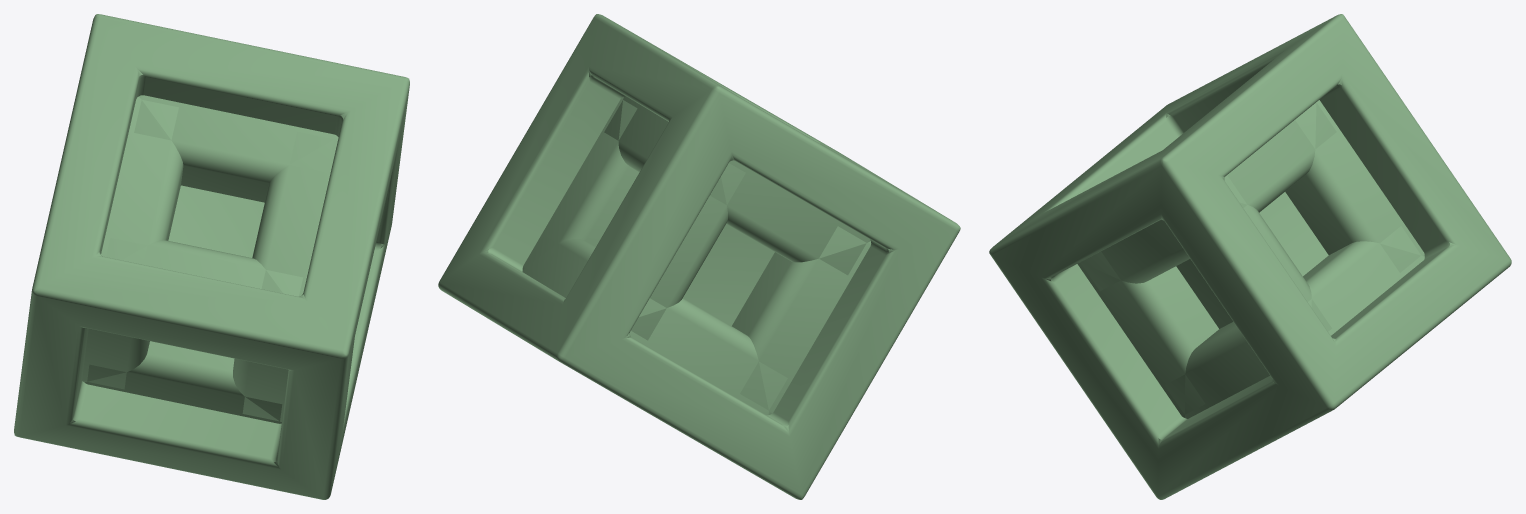
File: tool.glb
The picture shows the model from 3 angles, left to right: view 1: azimuth 30°, elevation 25°; view 2: azimuth 150°, elevation 25°; view 3: azimuth 270°, elevation 25°; orthographic projection. The views are drawn at different scales.
Parts seen in each view (by area): view 1: Cube.001; view 2: Cube.001; view 3: Cube.001.
Boxes of the visible parts, bbox=[...] form: Cube.001: bbox=[14, 14, 409, 499]; Cube.001: bbox=[438, 14, 960, 499]; Cube.001: bbox=[989, 14, 1511, 499].
Size of the model in its own units: 5.62 by 5.42 by 6.05.
